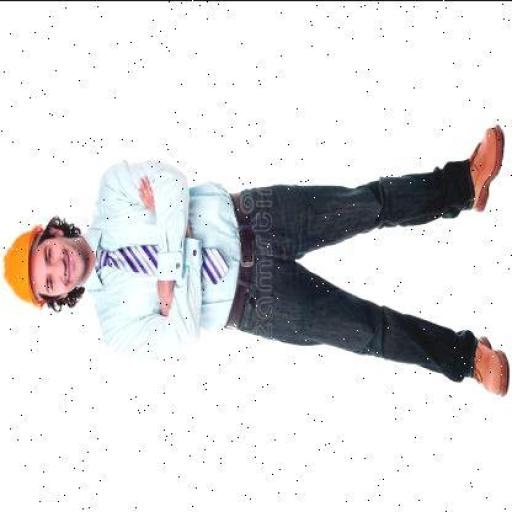person: (4, 112, 512, 396)
safety_shoe: (466, 120, 504, 217), (464, 332, 511, 394)
